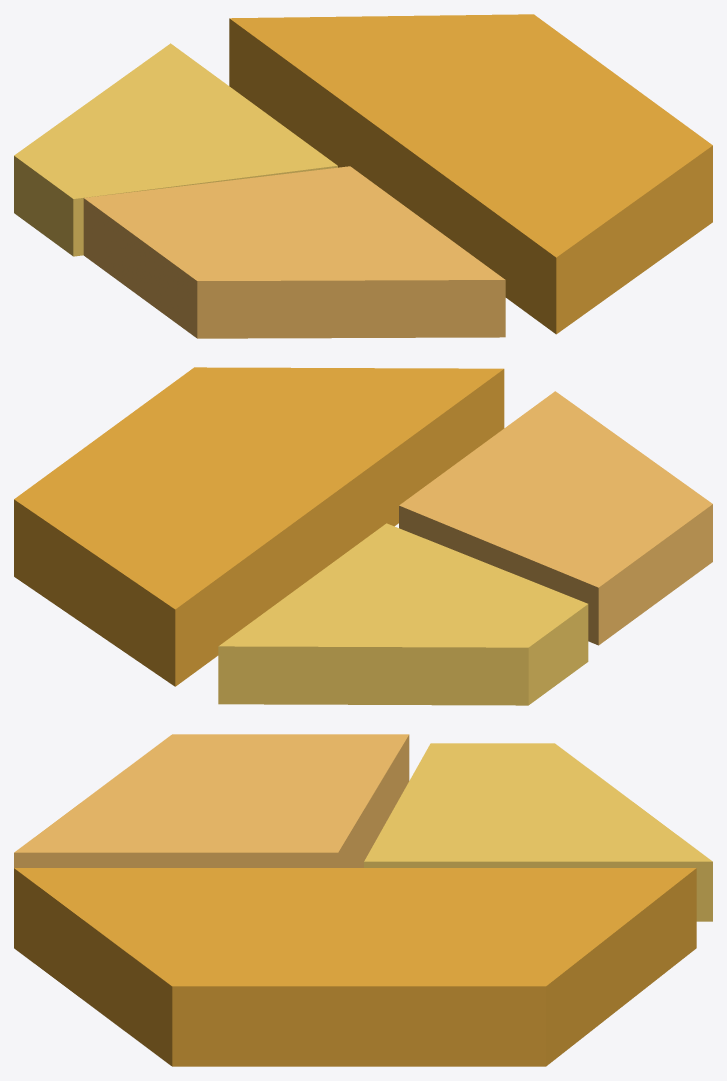
File: M_Farm_var1_2.fbx
The picture shows the model from 3 angles, top to bottom: view 1: azimuth 30°, elevation 25°; view 2: azimuth 150°, elevation 25°; view 3: azimuth 270°, elevation 25°; orthographic projection. The views are drawn at different scales.
Parts seen in each view (by area): view 1: M_Farm_var1_2; view 2: M_Farm_var1_2; view 3: M_Farm_var1_2.
Part boxes in pixels (bbox=[...]): M_Farm_var1_2: bbox=[14, 14, 712, 338]; M_Farm_var1_2: bbox=[14, 367, 712, 705]; M_Farm_var1_2: bbox=[14, 734, 712, 1066].
Size of the model in its own units: 1.36 by 0.1944 by 1.54.
